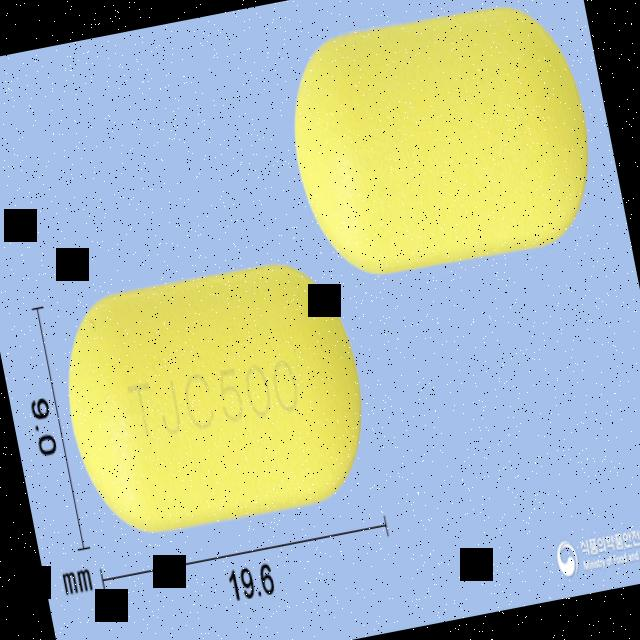Clarix: (45, 246, 382, 552)
